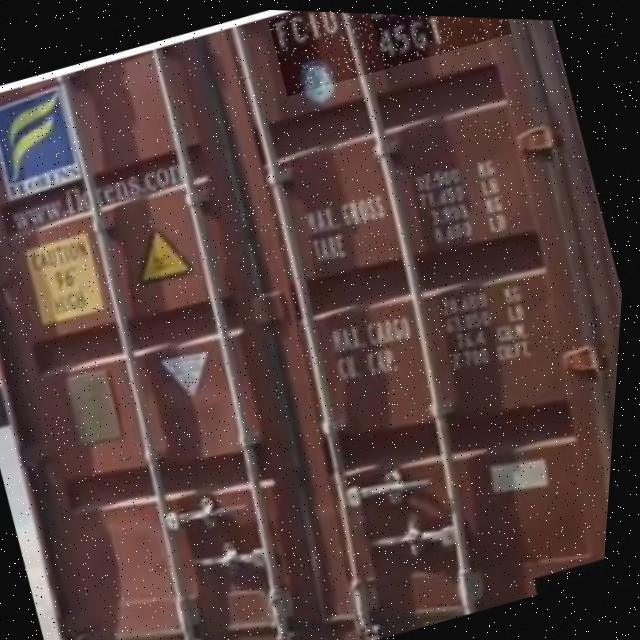container_number_h: (265, 8, 513, 100)
